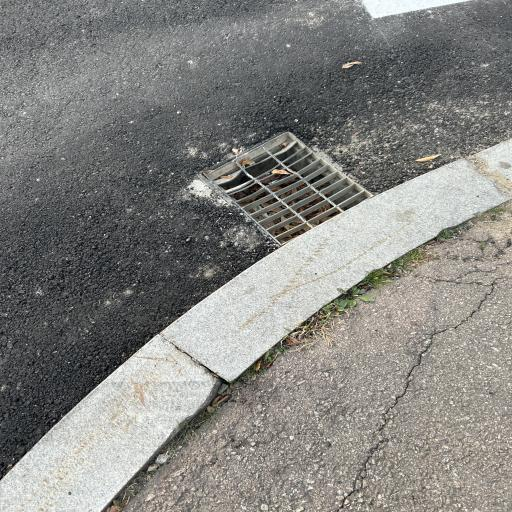drain: (213, 139, 371, 244)
